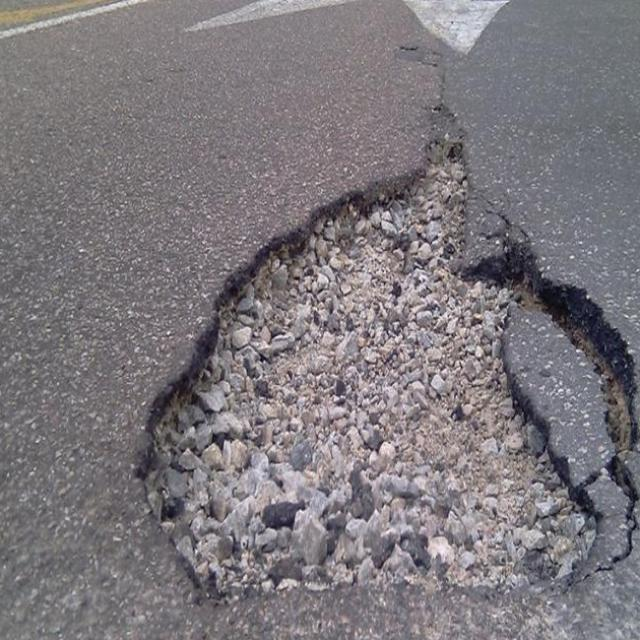Lubang: (146, 143, 640, 607)
